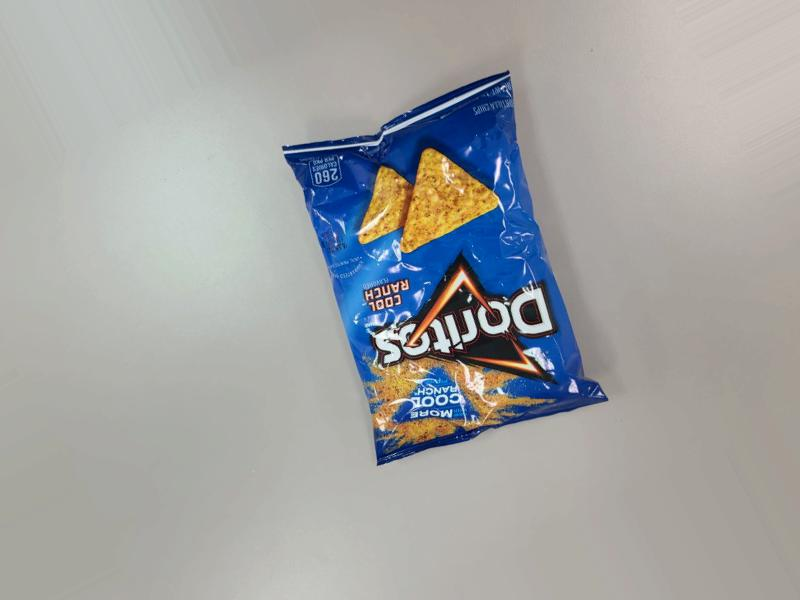doritos: (264, 64, 614, 470)
